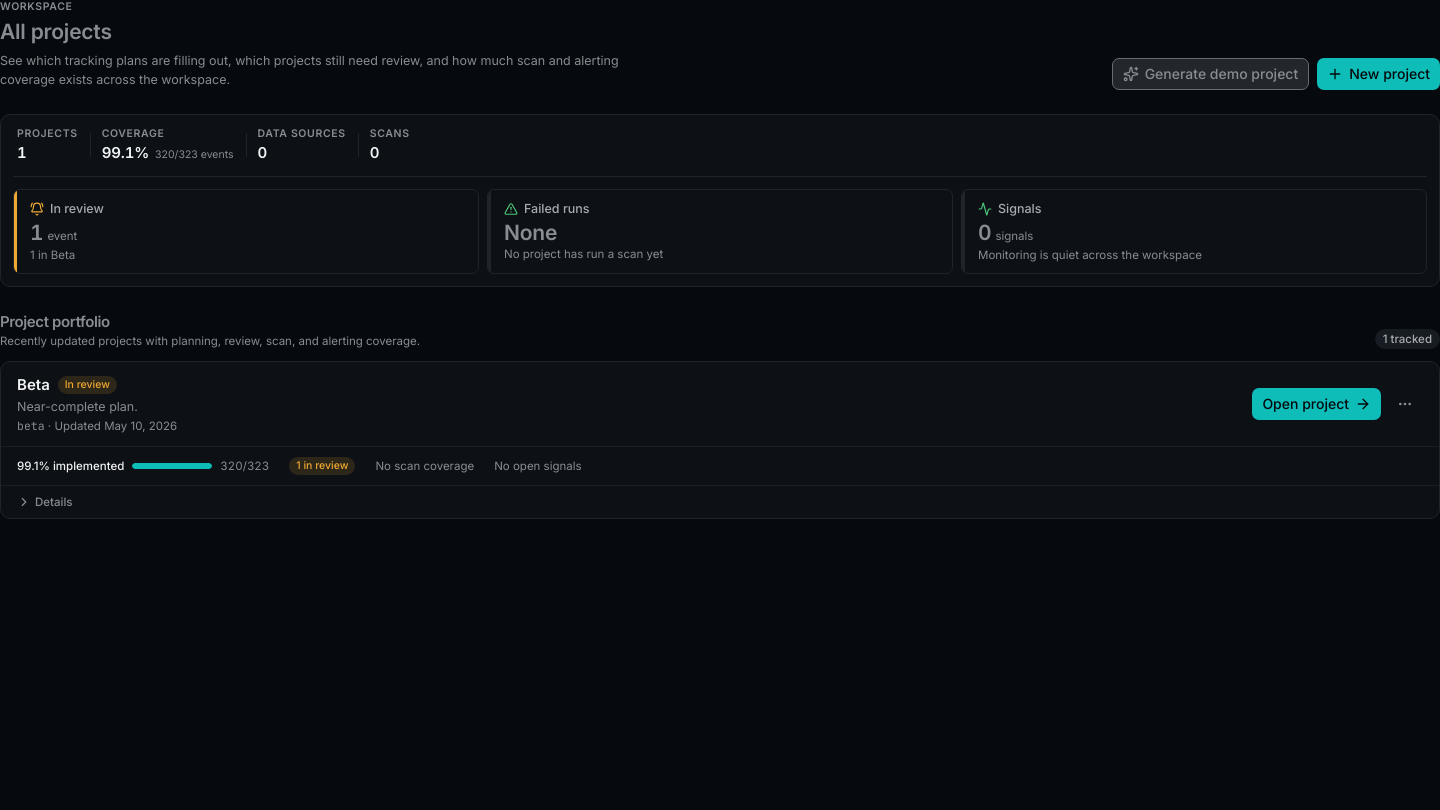
ProjectsPage — deleting a project (WS-9, WS-10) › shows a failed delete inside the dialog instead of failing silently
Press Enter in the button named "project actions for beta", box [1387,386,1423,422]
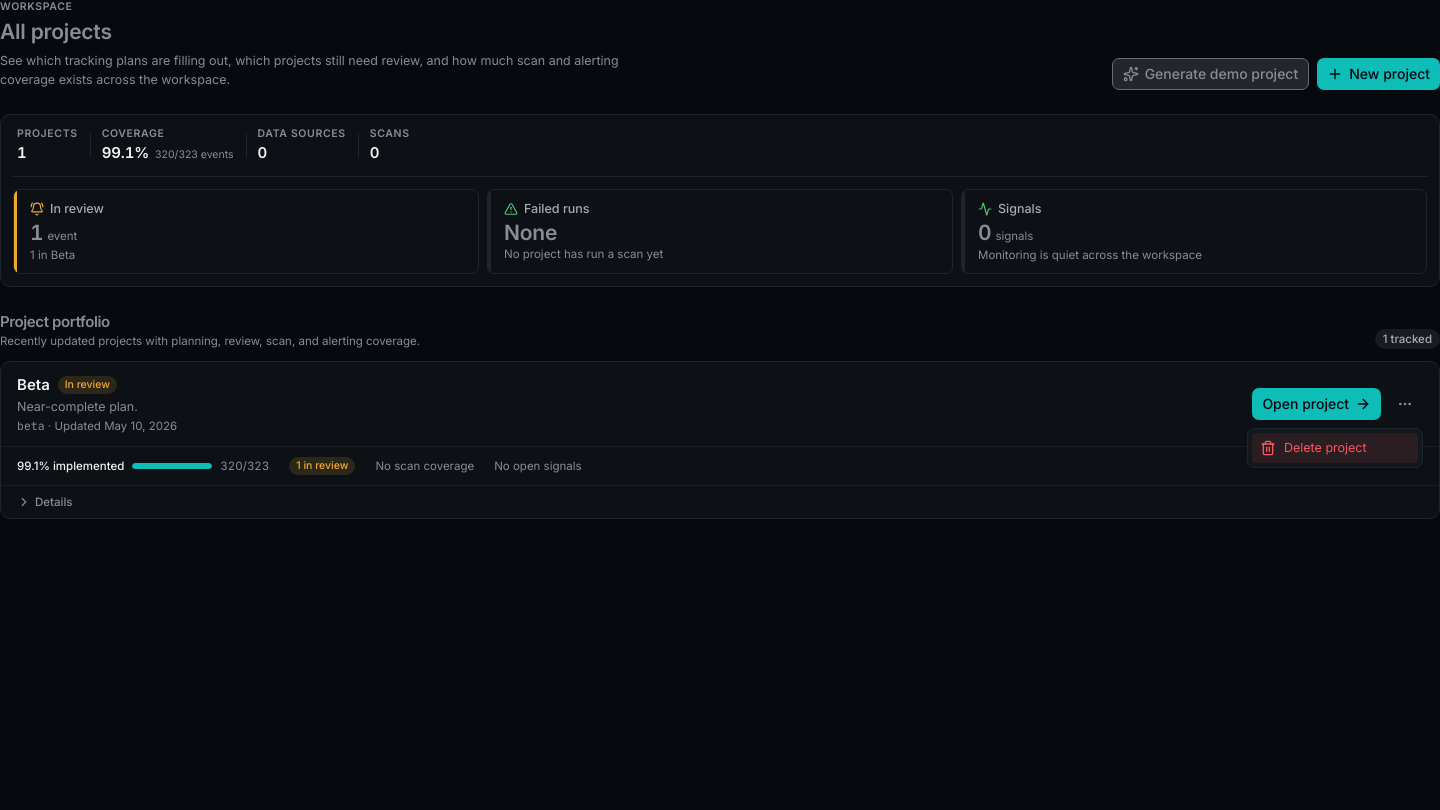
Click the menu item "Delete project": (1335, 448) [1252,433,1418,463]
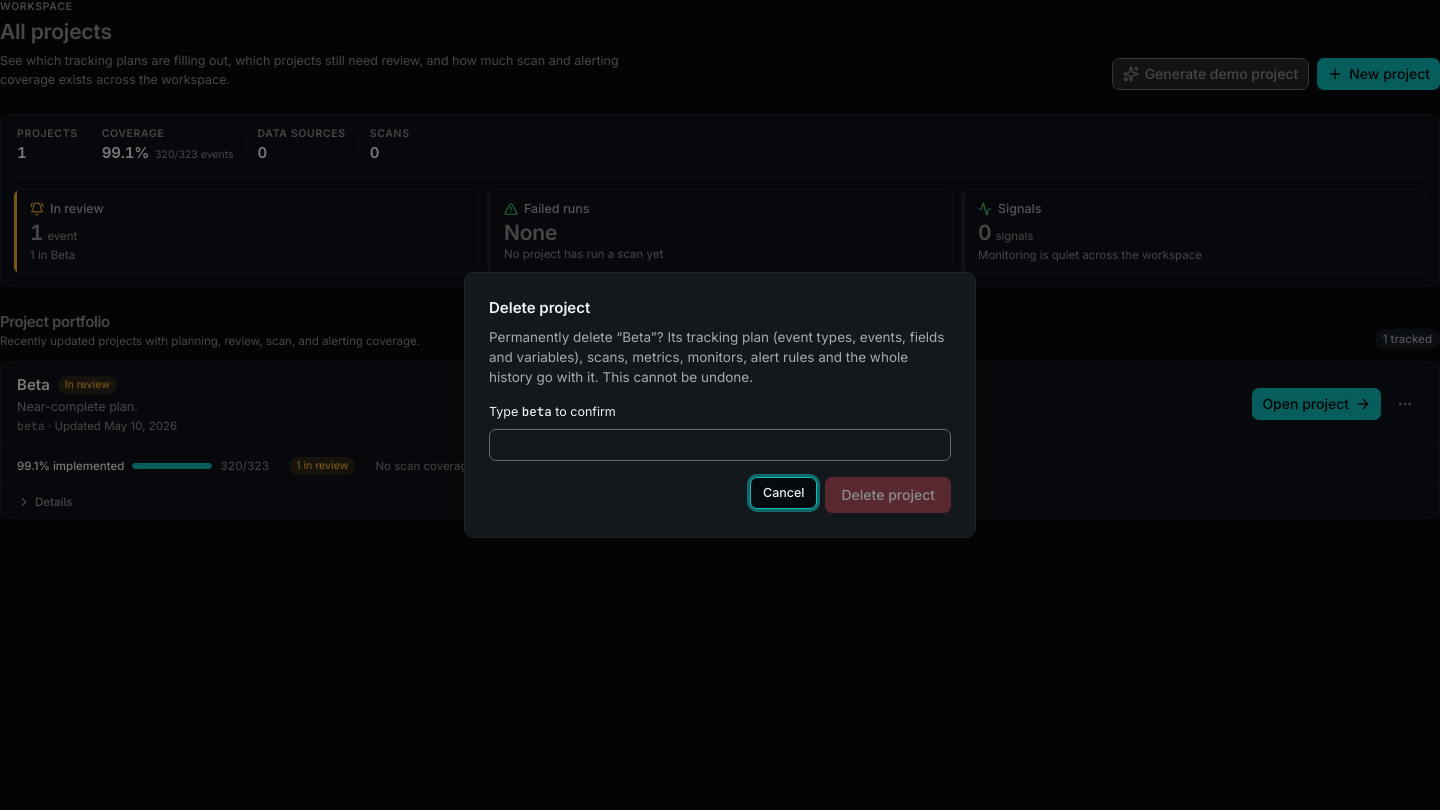
In the field labelled "Type beta to confirm": (720, 445) [489,429,951,461], type "beta"
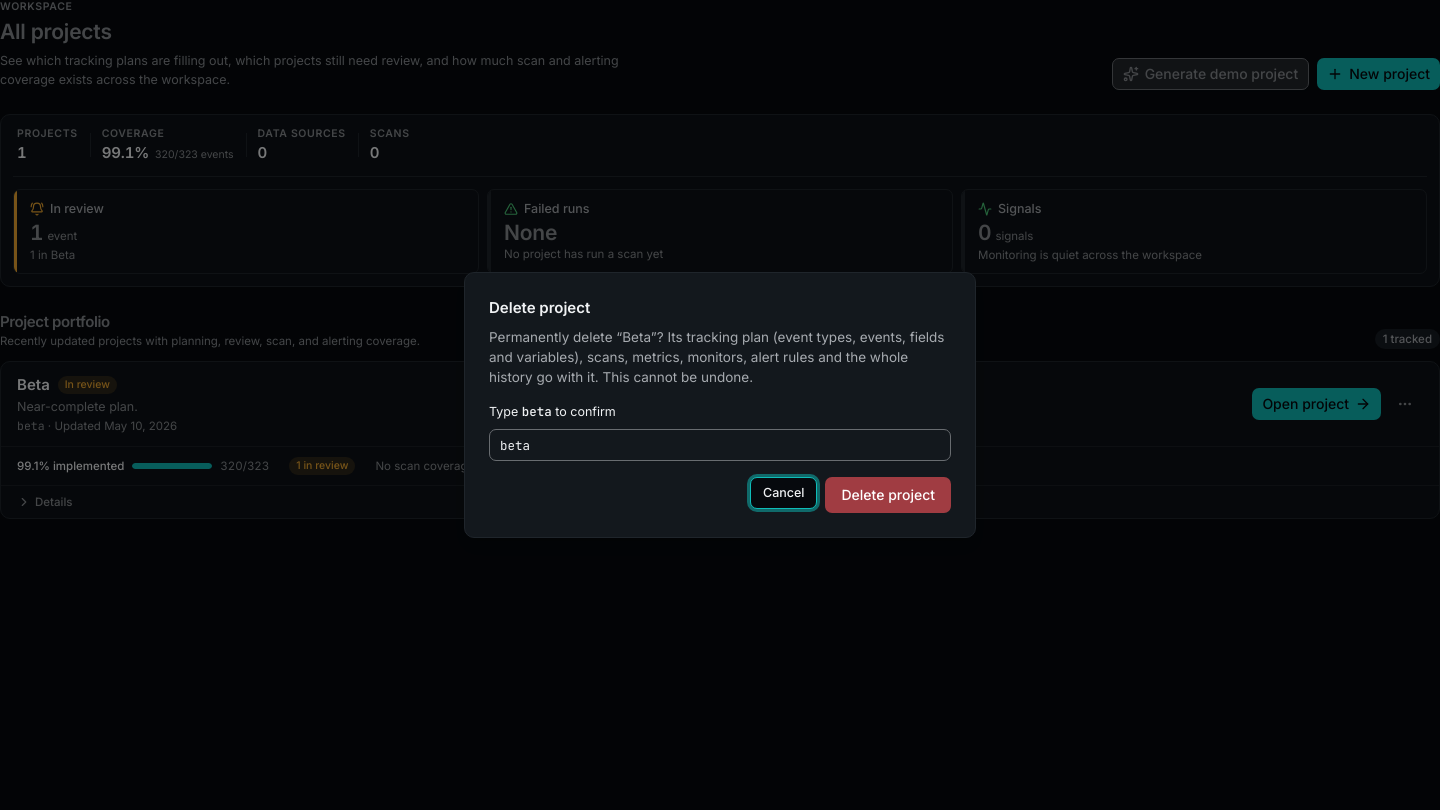
Click the button "Delete project": (888, 495) [826,477,951,513]
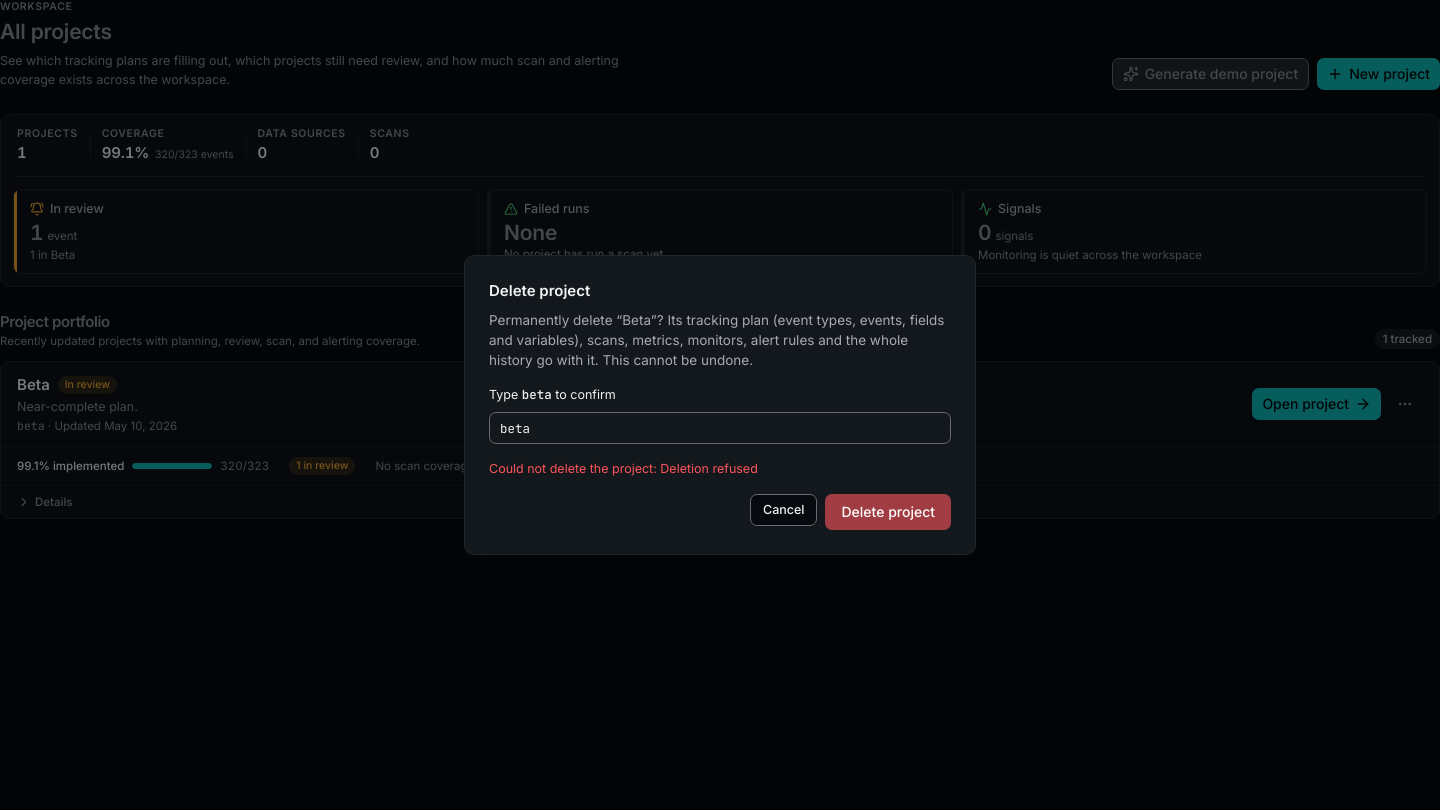
expect the link "Beta" is shown: met, box [17,374,50,396]
expect the dialog is shown: met, box [464,255,976,555]
expect the message shows "Could not delete the project": met, box [489,461,653,476]
